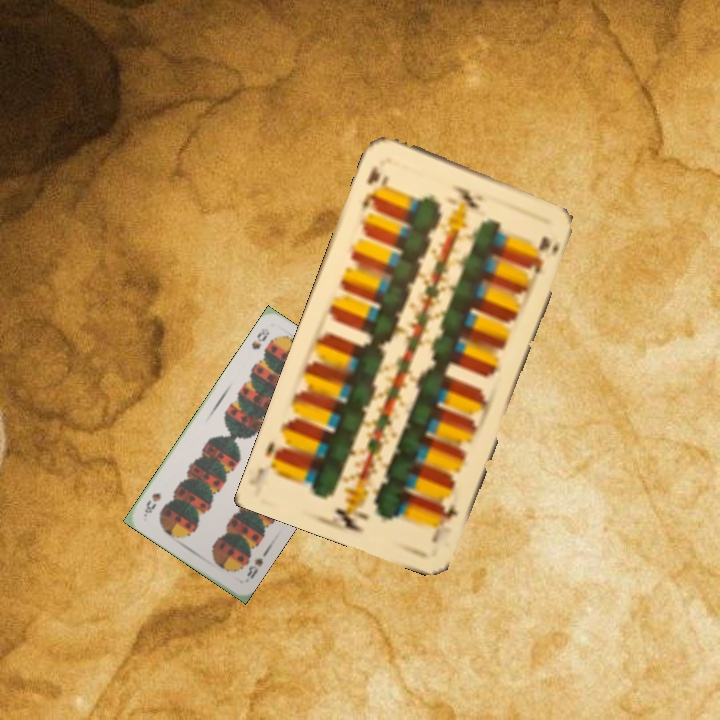E10: (427, 492, 461, 546), (357, 161, 390, 215)
S8: (241, 554, 266, 585), (247, 324, 272, 352)
